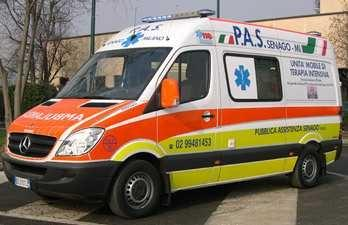car: (0, 8, 344, 219)
